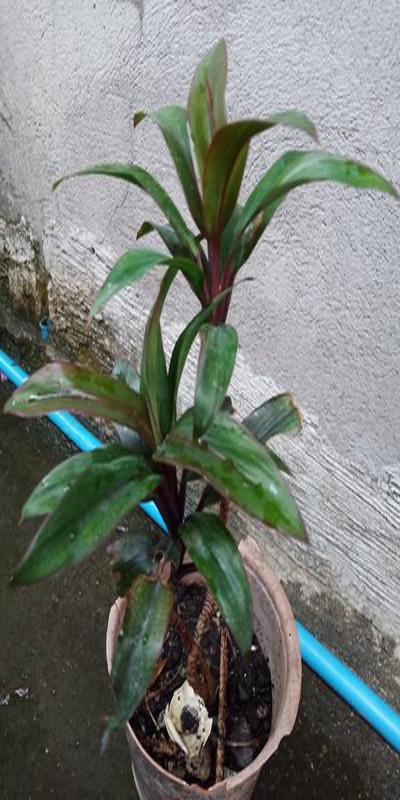Baston de san jose: (54, 78, 353, 716)
